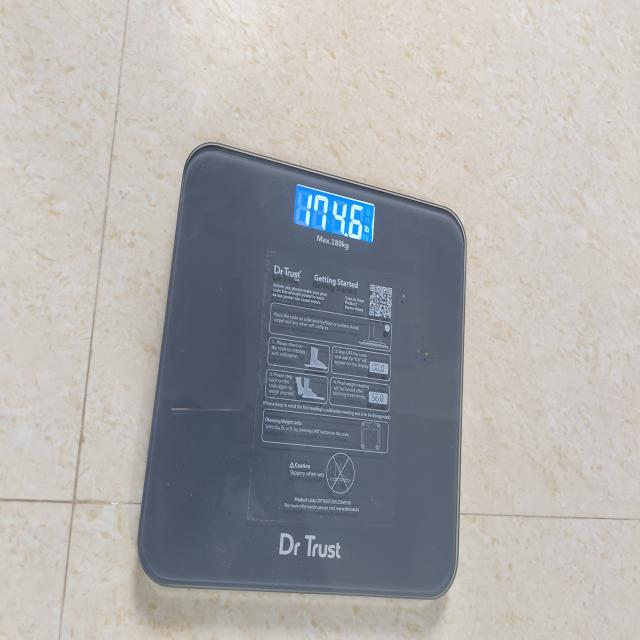ws: (136, 146, 467, 603)
